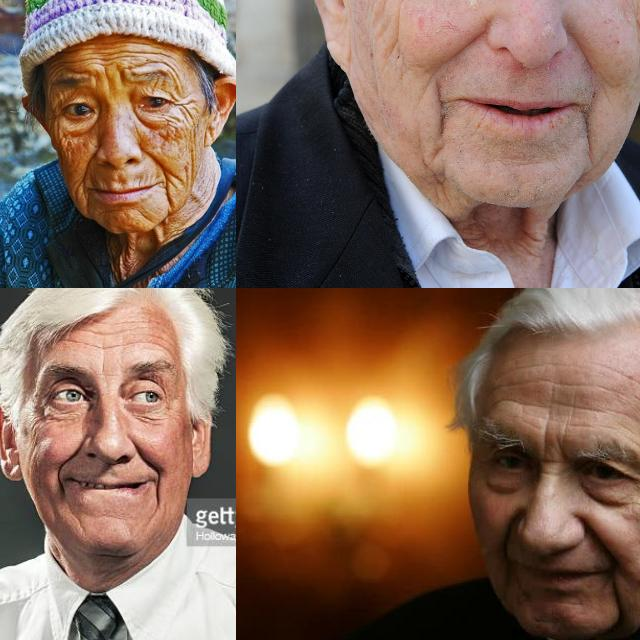chin: (72, 510, 90, 538), (135, 208, 155, 222)
crows_feet: (47, 111, 67, 139), (168, 95, 194, 116), (31, 394, 49, 424)
forehead: (546, 382, 590, 432), (612, 391, 640, 442), (493, 379, 535, 411), (91, 42, 125, 68), (134, 333, 170, 353), (136, 42, 168, 62), (54, 52, 86, 72), (64, 332, 92, 352), (96, 324, 126, 340), (100, 336, 122, 354)
frown_line: (536, 433, 568, 463), (100, 66, 116, 94)
gummy_smile: (434, 22, 488, 59), (582, 520, 618, 558), (138, 146, 172, 177), (567, 31, 595, 65), (59, 437, 85, 467), (499, 514, 517, 556), (135, 443, 159, 473), (78, 150, 99, 182)
masseter: (383, 5, 411, 65), (184, 126, 202, 164)
sad_smile: (602, 570, 630, 620), (430, 85, 454, 139), (574, 110, 596, 154), (160, 182, 178, 214), (149, 478, 165, 512), (52, 472, 68, 500), (80, 189, 94, 211)
